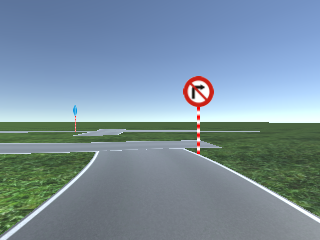-5: (1, 194, 320, 238)
NoRight: (183, 76, 214, 107)
